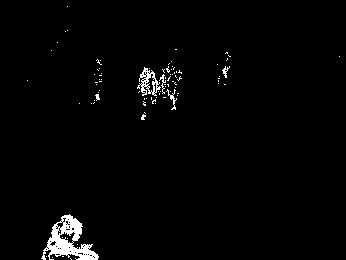person: (136, 67, 160, 122), (161, 61, 183, 111)
